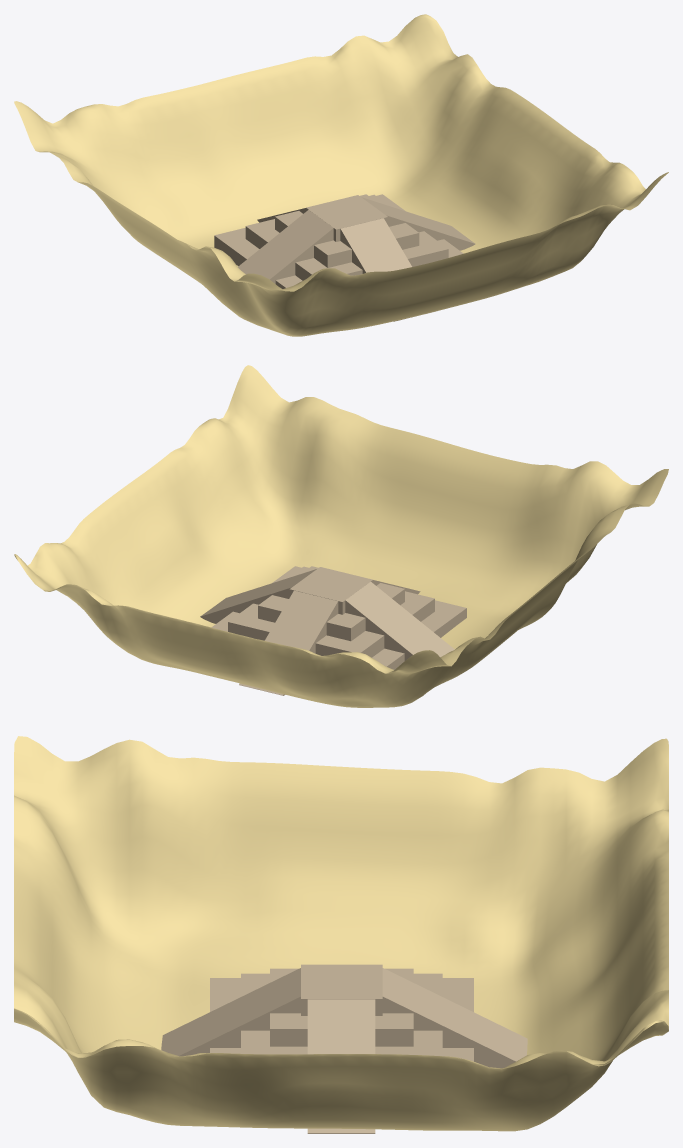
File: PyramidTrack.glb
3 views of the same model, one above another, from view 1: azimuth 30°, elevation 25°; view 2: azimuth 150°, elevation 25°; view 3: azimuth 270°, elevation 25° (orthographic). The views are drawn at different scales.
Visible parts, largest first — view 1: Plane, Cube.005, Cube.006, Cube.001, Cube.002, Cube.003, Cube.004, Cube; view 2: Plane, Cube.005, Cube.001, Cube.007, Cube.002, Cube, Cube.003, Cube.004; view 3: Plane, Cube.007, Cube.006, Cube.004, Cube.003, Cube.001, Cube.002, Cube.
Part boxes in pixels (<box>): Plane: <box>14,14,668,336</box>; Cube.005: <box>238,210,333,283</box>; Cube.006: <box>340,218,411,321</box>; Cube.001: <box>245,194,448,280</box>; Cube.002: <box>275,194,419,267</box>; Cube.003: <box>306,195,388,241</box>; Cube.004: <box>361,197,475,250</box>; Cube: <box>214,194,463,288</box>; Plane: <box>14,365,668,707</box>; Cube.005: <box>345,582,454,660</box>; Cube.001: <box>228,566,434,657</box>; Cube.007: <box>239,590,338,695</box>; Cube.002: <box>258,566,404,641</box>; Cube: <box>211,566,466,669</box>; Cube.003: <box>289,567,373,614</box>; Cube.004: <box>200,569,316,623</box>; Plane: <box>14,736,668,1131</box>; Cube.007: <box>382,968,527,1068</box>; Cube.006: <box>161,968,300,1056</box>; Cube.004: <box>307,999,375,1133</box>; Cube.003: <box>301,964,382,1015</box>; Cube.001: <box>241,973,442,1056</box>; Cube.002: <box>270,968,413,1046</box>; Cube: <box>210,978,473,1061</box>.
Size of the model in its own units: 465 by 146 by 465.
